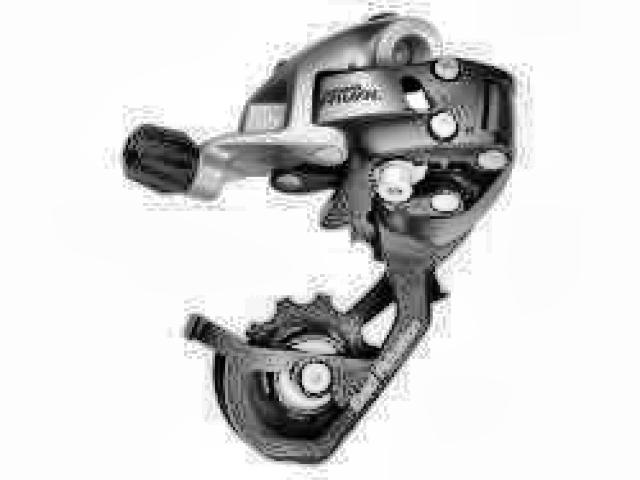rear_derailleur: (121, 7, 522, 468)
